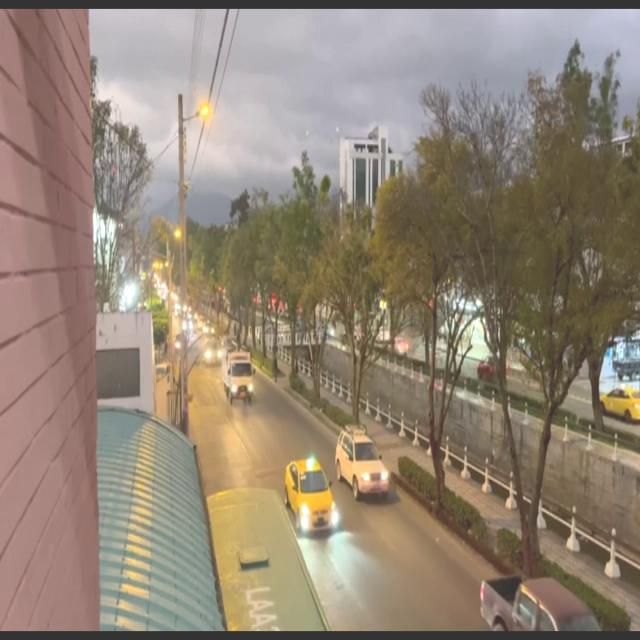CMT: (480, 575, 600, 631)
SED: (286, 466, 334, 528)
SUV: (340, 434, 389, 497)
TRUCK: (226, 353, 254, 405)
